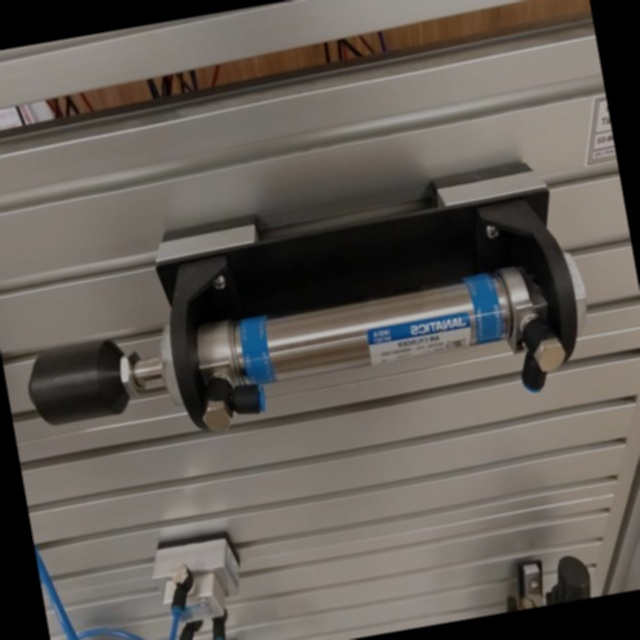double acting pneumatic cylinder: (0, 143, 602, 485)
